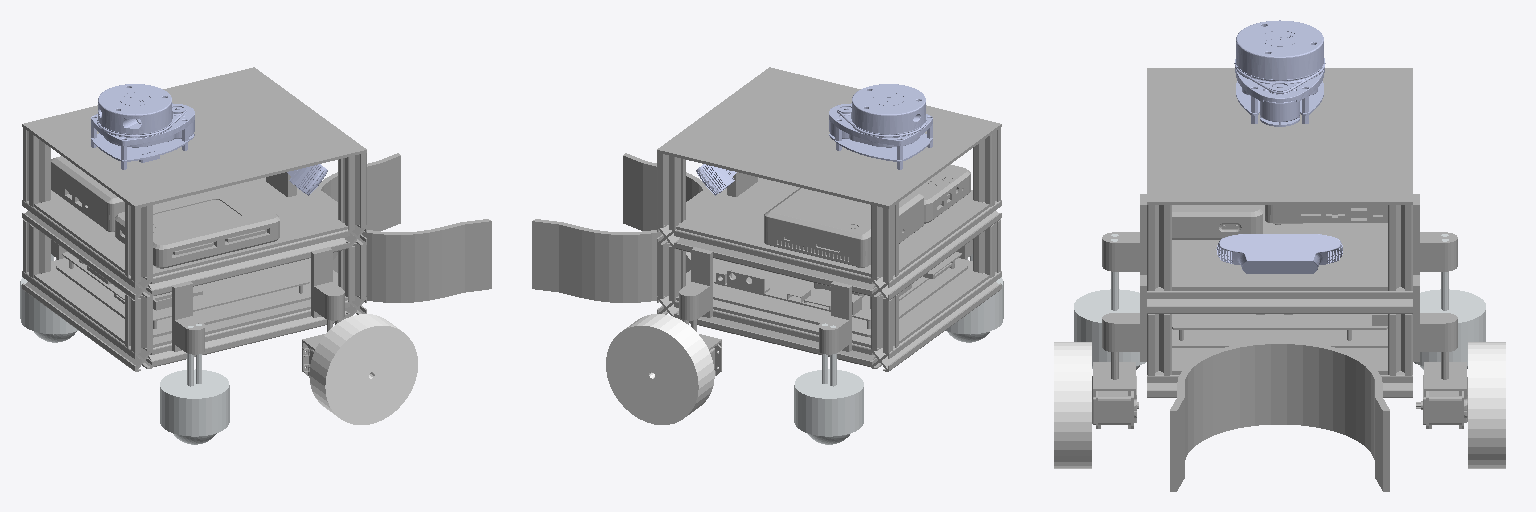
URDF robot description (susfix):
<?xml version="1.0" encoding="utf-8"?>
<!-- This URDF was automatically created by SolidWorks to URDF Exporter! Originally created by [author] ([email redacted]) 
     Commit Version: 1.5.1-0-g916b5db  Build Version: 1.5.7152.31018
     For more information, please see http://wiki.ros.org/sw_urdf_exporter -->
<robot
  name="susfix">
  <link
    name="base_link">
    <inertial>
      <origin
        xyz="-0.0980508893478838 0.00128963247042391 -0.037603625628579"
        rpy="0 0 0" />
      <mass
        value="2.79169679558094" />
      <inertia
        ixx="0.00516764328916238"
        ixy="-1.46573682205778E-06"
        ixz="-8.28317308722288E-06"
        iyy="0.00582766417335301"
        iyz="-3.31789538661826E-07"
        izz="0.010461126108079" />
    </inertial>
    <visual>
      <origin
        xyz="0 0 0"
        rpy="0 0 0" />
      <geometry>
        <mesh
          filename="package://susfix/meshes/base_link.STL" />
      </geometry>
      <material
        name="">
        <color
          rgba="0.752941176470588 0.752941176470588 0.752941176470588 1" />
      </material>
    </visual>
    <collision>
      <origin
        xyz="0 0 0"
        rpy="0 0 0" />
      <geometry>
        <mesh
          filename="package://susfix/meshes/base_link.STL" />
      </geometry>
    </collision>
  </link>
  <link
    name="LFS">
    <inertial>
      <origin
        xyz="-0.00492509860290247 -0.0606579498799667 0.0581187616681716"
        rpy="0 0 0" />
      <mass
        value="0.0606810735326678" />
      <inertia
        ixx="1.7187359000971E-05"
        ixy="-1.64845302056313E-08"
        ixz="1.56454773175207E-07"
        iyy="1.57906996487927E-05"
        iyz="-2.96411876510945E-09"
        izz="1.34932513987566E-05" />
    </inertial>
    <visual>
      <origin
        xyz="0 0 0"
        rpy="0 0 0" />
      <geometry>
        <mesh
          filename="package://susfix/meshes/LFS.STL" />
      </geometry>
      <material
        name="">
        <color
          rgba="0.752941176470588 0.752941176470588 0.752941176470588 1" />
      </material>
    </visual>
    <collision>
      <origin
        xyz="0 0 0"
        rpy="0 0 0" />
      <geometry>
        <mesh
          filename="package://susfix/meshes/LFS.STL" />
      </geometry>
    </collision>
  </link>
  <joint
    name="LFS"
    type="prismatic">
    <origin
      xyz="-0.0805 0.13497 -0.0645"
      rpy="1.5708 0 1.5708" />
    <parent
      link="base_link" />
    <child
      link="LFS" />
    <axis
      xyz="0 1 0" />
    <limit
      lower="0"
      upper="0"
      effort="0"
      velocity="0" />
  </joint>
  <link
    name="LFW">
    <inertial>
      <origin
        xyz="0.0150000000000131 4.84334794492725E-15 -3.34107741473133E-15"
        rpy="0 0 0" />
      <mass
        value="0.239316435984071" />
      <inertia
        ixx="0.00030040943490763"
        ixy="1.02224551970788E-17"
        ixz="-7.08151599885858E-18"
        iyy="0.00016815345015262"
        iyz="0"
        izz="0.00016815345015262" />
    </inertial>
    <visual>
      <origin
        xyz="0 0 0"
        rpy="0 0 0" />
      <geometry>
        <mesh
          filename="package://susfix/meshes/LFW.STL" />
      </geometry>
      <material
        name="">
        <color
          rgba="1 1 1 1" />
      </material>
    </visual>
    <collision>
      <origin
        xyz="0 0 0"
        rpy="0 0 0" />
      <geometry>
        <mesh
          filename="package://susfix/meshes/LFW.STL" />
      </geometry>
    </collision>
  </link>
  <joint
    name="LFW"
    type="continuous">
    <origin
      xyz="0.012782 -0.0698 0.07"
      rpy="0.60571 0 0" />
    <parent
      link="LFS" />
    <child
      link="LFW" />
    <axis
      xyz="1 0 0" />
    <limit
      effort="3.1"
      velocity="7" />
  </joint>
  <link
    name="RFS">
    <inertial>
      <origin
        xyz="-0.00492509860290534 -0.0606579498799679 0.0581187616681716"
        rpy="0 0 0" />
      <mass
        value="0.0606810735326679" />
      <inertia
        ixx="1.7187359000971E-05"
        ixy="-1.64845302056318E-08"
        ixz="1.56454773175214E-07"
        iyy="1.57906996487927E-05"
        iyz="-2.96411876510749E-09"
        izz="1.34932513987566E-05" />
    </inertial>
    <visual>
      <origin
        xyz="0 0 0"
        rpy="0 0 0" />
      <geometry>
        <mesh
          filename="package://susfix/meshes/RFS.STL" />
      </geometry>
      <material
        name="">
        <color
          rgba="0.752941176470588 0.752941176470588 0.752941176470588 1" />
      </material>
    </visual>
    <collision>
      <origin
        xyz="0 0 0"
        rpy="0 0 0" />
      <geometry>
        <mesh
          filename="package://susfix/meshes/RFS.STL" />
      </geometry>
    </collision>
  </link>
  <joint
    name="RFS"
    type="prismatic">
    <origin
      xyz="-0.0805 -0.12503 -0.0645"
      rpy="1.5708 0 1.5708" />
    <parent
      link="base_link" />
    <child
      link="RFS" />
    <axis
      xyz="0 1 0" />
    <limit
      lower="0"
      upper="0"
      effort="0"
      velocity="0" />
  </joint>
  <link
    name="RFW">
    <inertial>
      <origin
        xyz="-0.015 3.46944695195361E-18 -6.93889390390723E-18"
        rpy="0 0 0" />
      <mass
        value="0.239316435984071" />
      <inertia
        ixx="0.000300409434907629"
        ixy="-3.49796882568523E-37"
        ixz="-1.34995875968628E-23"
        iyy="0.00016815345015262"
        iyz="2.50270380226143E-39"
        izz="0.00016815345015262" />
    </inertial>
    <visual>
      <origin
        xyz="0 0 0"
        rpy="0 0 0" />
      <geometry>
        <mesh
          filename="package://susfix/meshes/RFW.STL" />
      </geometry>
      <material
        name="">
        <color
          rgba="1 1 1 1" />
      </material>
    </visual>
    <collision>
      <origin
        xyz="0 0 0"
        rpy="0 0 0" />
      <geometry>
        <mesh
          filename="package://susfix/meshes/RFW.STL" />
      </geometry>
    </collision>
  </link>
  <joint
    name="RFW"
    type="continuous">
    <origin
      xyz="-0.022718 -0.069799 0.07"
      rpy="0 0 0" />
    <parent
      link="RFS" />
    <child
      link="RFW" />
    <axis
      xyz="1 0 0" />
    <limit
      effort="3.1"
      velocity="7" />
  </joint>
  <link
    name="LBS">
    <inertial>
      <origin
        xyz="7.74380559676047E-15 -0.0740829550098917 -2.77555756156289E-17"
        rpy="0 0 0" />
      <mass
        value="0.249098381596498" />
      <inertia
        ixx="0.000126903429659009"
        ixy="-9.46012696995169E-22"
        ixz="-1.45013701904976E-13"
        iyy="0.000155566169476371"
        iyz="-3.29611340564545E-20"
        izz="0.000127067954523872" />
    </inertial>
    <visual>
      <origin
        xyz="0 0 0"
        rpy="0 0 0" />
      <geometry>
        <mesh
          filename="package://susfix/meshes/LBS.STL" />
      </geometry>
      <material
        name="">
        <color
          rgba="0.898039215686275 0.917647058823529 0.929411764705882 1" />
      </material>
    </visual>
    <collision>
      <origin
        xyz="0 0 0"
        rpy="0 0 0" />
      <geometry>
        <mesh
          filename="package://susfix/meshes/LBS.STL" />
      </geometry>
    </collision>
  </link>
  <joint
    name="LBS"
    type="prismatic">
    <origin
      xyz="-0.1735 0.13 -0.0645"
      rpy="1.5708 0 1.5708" />
    <parent
      link="base_link" />
    <child
      link="LBS" />
    <axis
      xyz="0 1 0" />
    <limit
      lower="0"
      upper="0"
      effort="0"
      velocity="0" />
  </joint>
  <link
    name="LBW">
    <inertial>
      <origin
        xyz="4.5474041199256E-14 7.79931674799172E-15 -3.91353616180368E-15"
        rpy="0 0 0" />
      <mass
        value="0.175020843969803" />
      <inertia
        ixx="4.38252193300387E-05"
        ixy="1.0730365023991E-21"
        ixz="-4.2351647362715E-22"
        iyy="4.41752610179783E-05"
        iyz="-7.15434183520368E-25"
        izz="4.38252193300387E-05" />
    </inertial>
    <visual>
      <origin
        xyz="0 0 0"
        rpy="0 0 0" />
      <geometry>
        <mesh
          filename="package://susfix/meshes/LBW.STL" />
      </geometry>
      <material
        name="">
        <color
          rgba="0.898039215686275 0.917647058823529 0.929411764705882 1" />
      </material>
    </visual>
    <collision>
      <origin
        xyz="0 0 0"
        rpy="0 0 0" />
      <geometry>
        <mesh
          filename="package://susfix/meshes/LBW.STL" />
      </geometry>
    </collision>
  </link>
  <joint
    name="LBW"
    type="continuous">
    <origin
      xyz="0 -0.0948 0"
      rpy="0 -0.08531 -1.5708" />
    <parent
      link="LBS" />
    <child
      link="LBW" />
    <axis
      xyz="0 1 0" />
  </joint>
  <link
    name="RBS">
    <inertial>
      <origin
        xyz="6.59194920871187E-17 -0.0740829550098979 0"
        rpy="0 0 0" />
      <mass
        value="0.249098381596498" />
      <inertia
        ixx="0.000126903429659009"
        ixy="8.39796543164101E-21"
        ixz="-1.45013679846871E-13"
        iyy="0.000155566169476371"
        iyz="-3.34497762084321E-20"
        izz="0.000127067954523872" />
    </inertial>
    <visual>
      <origin
        xyz="0 0 0"
        rpy="0 0 0" />
      <geometry>
        <mesh
          filename="package://susfix/meshes/RBS.STL" />
      </geometry>
      <material
        name="">
        <color
          rgba="0.898039215686275 0.917647058823529 0.929411764705882 1" />
      </material>
    </visual>
    <collision>
      <origin
        xyz="0 0 0"
        rpy="0 0 0" />
      <geometry>
        <mesh
          filename="package://susfix/meshes/RBS.STL" />
      </geometry>
    </collision>
  </link>
  <joint
    name="RBS"
    type="prismatic">
    <origin
      xyz="-0.1735 -0.13 -0.0645"
      rpy="1.5708 0 1.5708" />
    <parent
      link="base_link" />
    <child
      link="RBS" />
    <axis
      xyz="0 1 0" />
    <limit
      lower="0"
      upper="0"
      effort="0"
      velocity="0" />
  </joint>
  <link
    name="RBW">
    <inertial>
      <origin
        xyz="1.2490009027033E-16 1.04083408558608E-17 0"
        rpy="0 0 0" />
      <mass
        value="0.175020843969803" />
      <inertia
        ixx="4.38252193300386E-05"
        ixy="1.28787036463945E-22"
        ixz="3.5143906166457E-35"
        iyy="4.41752610179783E-05"
        iyz="9.71560853823021E-23"
        izz="4.38252193300387E-05" />
    </inertial>
    <visual>
      <origin
        xyz="0 0 0"
        rpy="0 0 0" />
      <geometry>
        <mesh
          filename="package://susfix/meshes/RBW.STL" />
      </geometry>
      <material
        name="">
        <color
          rgba="0.898039215686275 0.917647058823529 0.929411764705882 1" />
      </material>
    </visual>
    <collision>
      <origin
        xyz="0 0 0"
        rpy="0 0 0" />
      <geometry>
        <mesh
          filename="package://susfix/meshes/RBW.STL" />
      </geometry>
    </collision>
  </link>
  <joint
    name="RBW"
    type="continuous">
    <origin
      xyz="0 -0.0948 0"
      rpy="0 0 -1.5708" />
    <parent
      link="RBS" />
    <child
      link="RBW" />
    <axis
      xyz="0 1 0" />
  </joint>
  <link
    name="Fcam">
    <inertial>
      <origin
        xyz="0.000445525090231214 -1.10631679103995E-05 0.00129821973144115"
        rpy="0 0 0" />
      <mass
        value="0.0436119950287126" />
      <inertia
        ixx="2.35707058046398E-05"
        ixy="-1.01813691700484E-09"
        ixz="2.17579681215262E-08"
        iyy="4.29479133591149E-06"
        iyz="-8.85791114059956E-10"
        izz="2.21058141232446E-05" />
    </inertial>
    <visual>
      <origin
        xyz="0 0 0"
        rpy="0 0 0" />
      <geometry>
        <mesh
          filename="package://susfix/meshes/Fcam.STL" />
      </geometry>
      <material
        name="">
        <color
          rgba="0.792156862745098 0.819607843137255 0.933333333333333 1" />
      </material>
    </visual>
    <collision>
      <origin
        xyz="0 0 0"
        rpy="0 0 0" />
      <geometry>
        <mesh
          filename="package://susfix/meshes/Fcam.STL" />
      </geometry>
    </collision>
  </link>
  <joint
    name="Fcam"
    type="fixed">
    <origin
      xyz="0.0145 0 0.041992"
      rpy="0 0 0" />
    <parent
      link="base_link" />
    <child
      link="Fcam" />
    <axis
      xyz="0 0 0" />
  </joint>
  <link
    name="Bcam">
    <inertial>
      <origin
        xyz="0.000445525343312589 -1.10630004969969E-05 0.00129821972548663"
        rpy="0 0 0" />
      <mass
        value="0.0436119949785284" />
      <inertia
        ixx="2.35707056099597E-05"
        ixy="-1.01834758008057E-09"
        ixz="2.17579332532571E-08"
        iyy="4.29479078276671E-06"
        iyz="-8.85484503910004E-10"
        izz="2.21058144654636E-05" />
    </inertial>
    <visual>
      <origin
        xyz="0 0 0"
        rpy="0 0 0" />
      <geometry>
        <mesh
          filename="package://susfix/meshes/Bcam.STL" />
      </geometry>
      <material
        name="">
        <color
          rgba="0.792156862745098 0.819607843137255 0.933333333333333 1" />
      </material>
    </visual>
    <collision>
      <origin
        xyz="0 0 0"
        rpy="0 0 0" />
      <geometry>
        <mesh
          filename="package://susfix/meshes/Bcam.STL" />
      </geometry>
    </collision>
  </link>
  <joint
    name="bcam"
    type="fixed">
    <origin
      xyz="0.007419 0 0.0067119"
      rpy="0 0.7854 0" />
    <parent
      link="base_link" />
    <child
      link="Bcam" />
    <axis
      xyz="0 0 0" />
  </joint>
  <link
    name="Lidar">
    <inertial>
      <origin
        xyz="0.0135233599493309 0.000461956334254526 -0.0287648857829249"
        rpy="0 0 0" />
      <mass
        value="0.0730845705624479" />
      <inertia
        ixx="1.95808756988661E-05"
        ixy="-1.03933601133523E-07"
        ixz="-4.28391197019757E-07"
        iyy="2.41250079762067E-05"
        iyz="9.42707770970367E-09"
        izz="4.14184516310608E-05" />
    </inertial>
    <visual>
      <origin
        xyz="0 0 0"
        rpy="0 0 0" />
      <geometry>
        <mesh
          filename="package://susfix/meshes/Lidar.STL" />
      </geometry>
      <material
        name="">
        <color
          rgba="0.792156862745098 0.819607843137255 0.933333333333333 1" />
      </material>
    </visual>
    <collision>
      <origin
        xyz="0 0 0"
        rpy="0 0 0" />
      <geometry>
        <mesh
          filename="package://susfix/meshes/Lidar.STL" />
      </geometry>
    </collision>
  </link>
  <joint
    name="Lidar"
    type="fixed">
    <origin
      xyz="-0.16408 -0.00099405 0.1135"
      rpy="0 0 0" />
    <parent
      link="base_link" />
    <child
      link="Lidar" />
    <axis
      xyz="0 0 0" />
  </joint>
</robot>

--- Facts derived from the render (not from the file) ---
Views: 3 orthographic renders of the robot side by side, from view 1: azimuth 30°, elevation 25°; view 2: azimuth 150°, elevation 25°; view 3: azimuth 270°, elevation 25°.
Model susfix with 12 links and 11 joints (4 continuous, 4 prismatic, 3 fixed), rooted at base_link, posed every joint at zero.
Visible links, largest first — view 1: base_link, RFW, Lidar, RBS, LBS, Bcam, RFS; view 2: base_link, LFW, Lidar, LBS, RBS, Bcam, LFS; view 3: base_link, Lidar, LFW, RFW, Bcam, LFS, RFS, LBS, RBS.
Boxes of the visible links, <box> form: base_link: <box>22,67,491,371</box>; RFW: <box>309,314,417,424</box>; Lidar: <box>91,84,194,169</box>; RBS: <box>160,324,229,436</box>; LBS: <box>20,254,78,334</box>; Bcam: <box>287,164,327,195</box>; RFS: <box>302,289,340,375</box>; base_link: <box>532,67,1001,371</box>; LFW: <box>606,314,714,424</box>; Lidar: <box>829,84,932,169</box>; LBS: <box>794,323,863,436</box>; RBS: <box>945,254,1003,334</box>; Bcam: <box>696,164,736,195</box>; LFS: <box>683,289,721,375</box>; base_link: <box>1102,68,1457,491</box>; Lidar: <box>1234,20,1325,126</box>; LFW: <box>1468,342,1505,468</box>; RFW: <box>1054,342,1091,468</box>; Bcam: <box>1216,234,1342,273</box>; LFS: <box>1416,314,1467,428</box>; RFS: <box>1092,314,1138,428</box>; LBS: <box>1414,234,1485,365</box>; RBS: <box>1074,234,1145,365</box>.
Size in the robot's own frame: 0.3943 by 0.3555 by 0.2978 metres.
Meshes: 12 distinct files referenced, 11 mesh visuals loaded (11 binary STL); not drawn: 1 (reference not matched to a file when rendering).